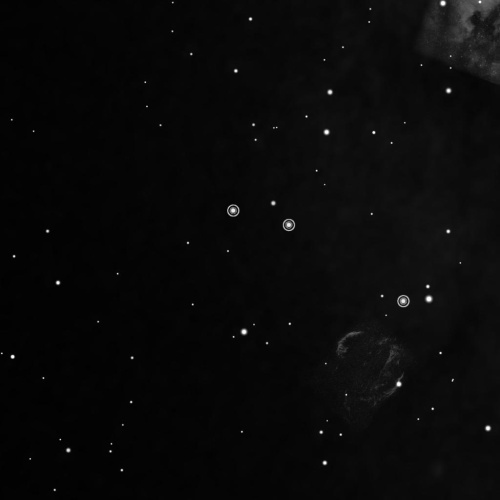vulpecula: (223, 200, 413, 313)
